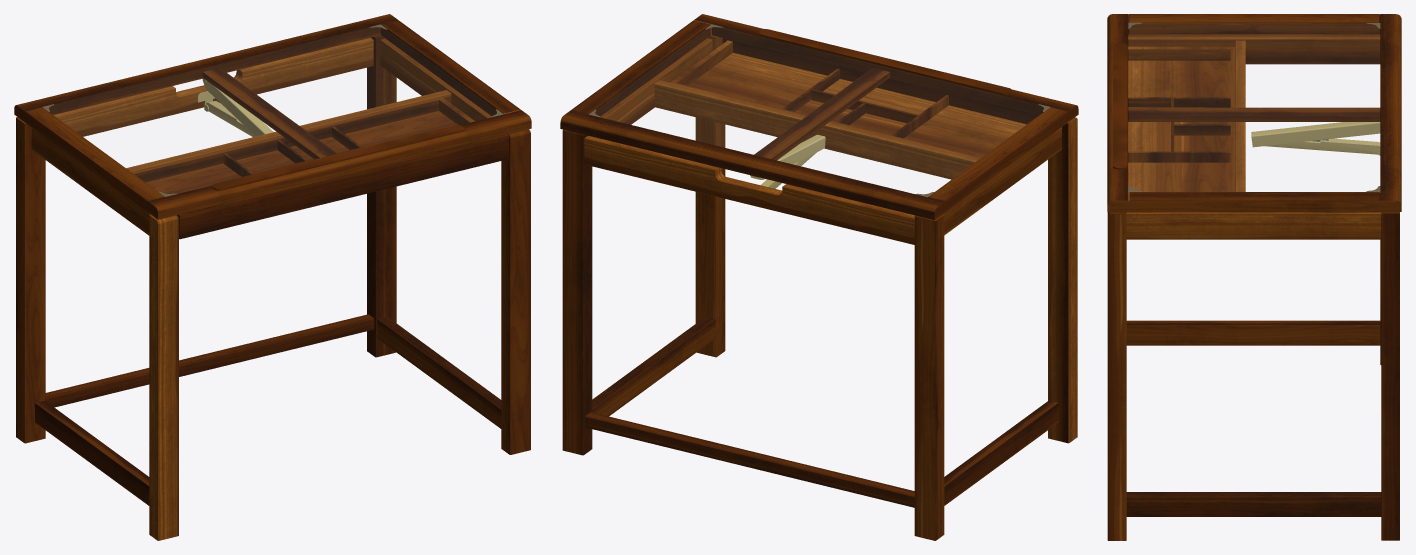
File: desk.glb
3 renders of one model, left to right at view 1: azimuth 30°, elevation 25°; view 2: azimuth 150°, elevation 25°; view 3: azimuth 270°, elevation 25°, orthographic. The views are drawn at different scales.
Visible parts, largest first — view 1: polySurface4947, ArtDeskTray, polySurface4937, polySurface4938, polySurface4934, polySurface4939, polySurface4942, polySurface4953, polySurface4955, polySurface4954, polySurface4936, polySurface4950 (+4 smaller); view 2: polySurface4947, ArtDeskTray, polySurface4934, polySurface4939, polySurface4942, polySurface4937, polySurface4935, polySurface4953, polySurface4938, polySurface4955, polySurface4954, polySurface4950 (+4 smaller); view 3: polySurface4947, ArtDeskTray, polySurface4940, polySurface4954, polySurface4938, polySurface4955, polySurface4942, polySurface4936, polySurface4950, polySurface4931, polySurface4948, polySurface4935 (+1 smaller).
Boxes of the visible parts, <box> form: polySurface4947: <box>14,14,531,219</box>; ArtDeskTray: <box>132,97,508,239</box>; polySurface4937: <box>149,214,178,540</box>; polySurface4938: <box>501,129,530,454</box>; polySurface4934: <box>16,117,45,443</box>; polySurface4939: <box>53,38,373,136</box>; polySurface4942: <box>367,35,396,357</box>; polySurface4953: <box>45,314,374,407</box>; polySurface4955: <box>377,316,501,428</box>; polySurface4954: <box>35,400,149,505</box>; polySurface4936: <box>31,127,150,235</box>; polySurface4950: <box>202,68,337,159</box>; polySurface4947: <box>560,14,1078,219</box>; ArtDeskTray: <box>670,38,1039,158</box>; polySurface4934: <box>914,214,944,540</box>; polySurface4939: <box>584,135,914,244</box>; polySurface4942: <box>562,129,592,455</box>; polySurface4937: <box>1048,117,1077,443</box>; polySurface4935: <box>654,80,979,179</box>; polySurface4953: <box>585,412,914,507</box>; polySurface4938: <box>695,35,725,357</box>; polySurface4955: <box>592,316,715,416</box>; polySurface4954: <box>944,400,1058,505</box>; polySurface4950: <box>754,68,889,160</box>; polySurface4947: <box>1107,14,1401,211</box>; ArtDeskTray: <box>1128,46,1235,191</box>; polySurface4940: <box>1126,212,1381,239</box>; polySurface4954: <box>1126,320,1380,345</box>; polySurface4938: <box>1107,212,1126,540</box>; polySurface4955: <box>1126,492,1381,516</box>; polySurface4942: <box>1381,212,1399,540</box>; polySurface4936: <box>1128,34,1380,64</box>; polySurface4950: <box>1128,107,1380,121</box>; polySurface4931: <box>1251,122,1380,147</box>; polySurface4948: <box>1113,43,1127,169</box>; polySurface4935: <box>1235,40,1245,191</box>.
Size of the model in its own units: 89.54 by 76.5 by 59.69.
Materials: 2 (2 with a texture image).
